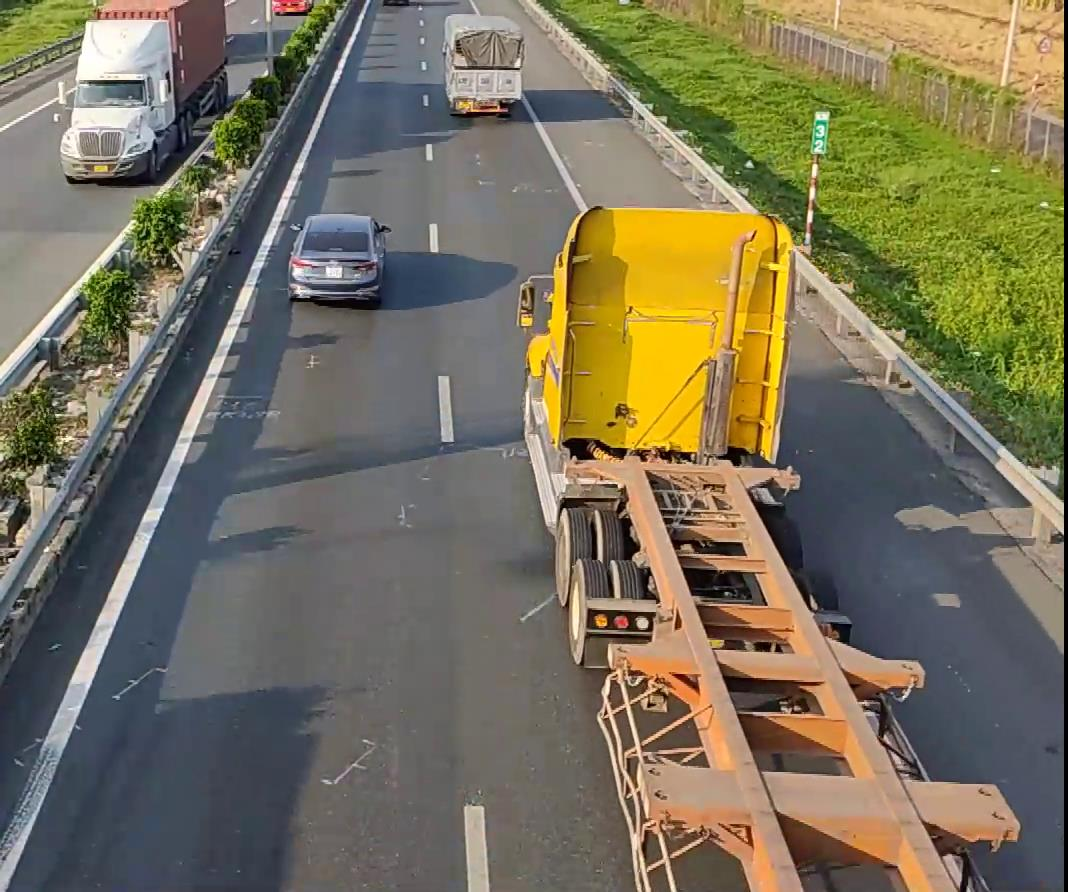car: (287, 210, 391, 314)
container: (501, 202, 1017, 892), (57, 0, 228, 181)
truck: (442, 13, 525, 116)
